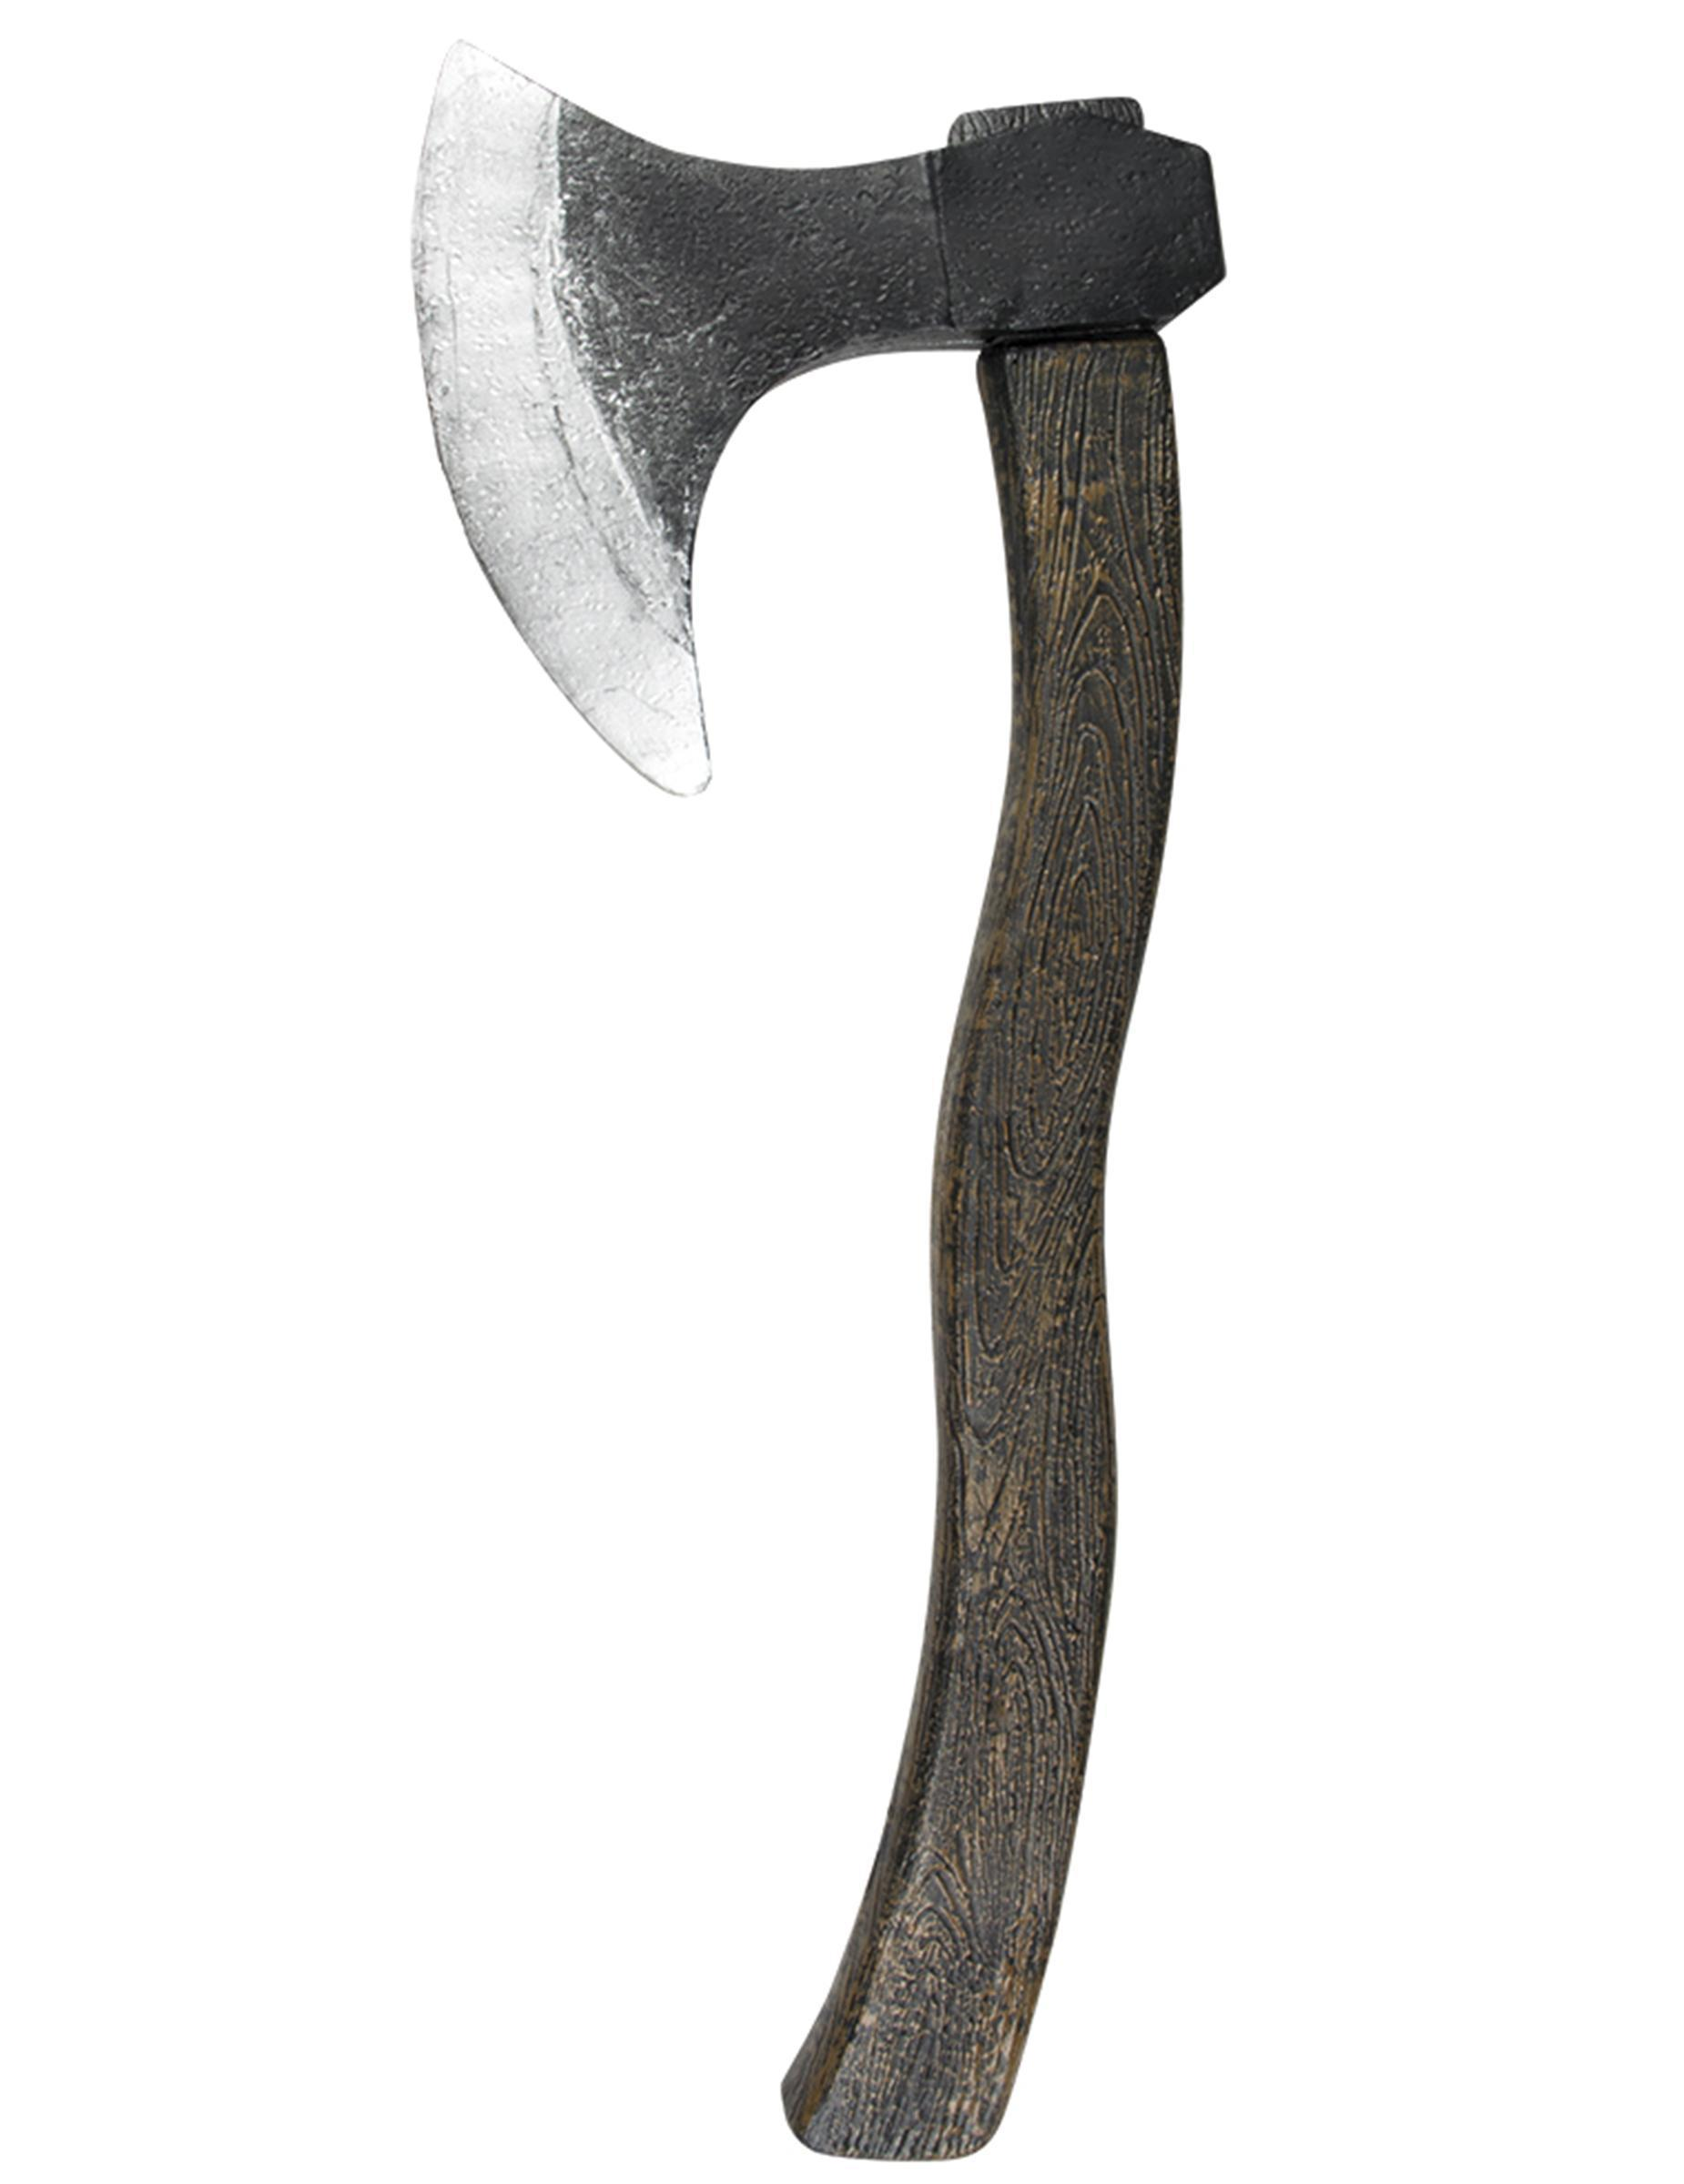machado: (414, 44, 1224, 2159)
